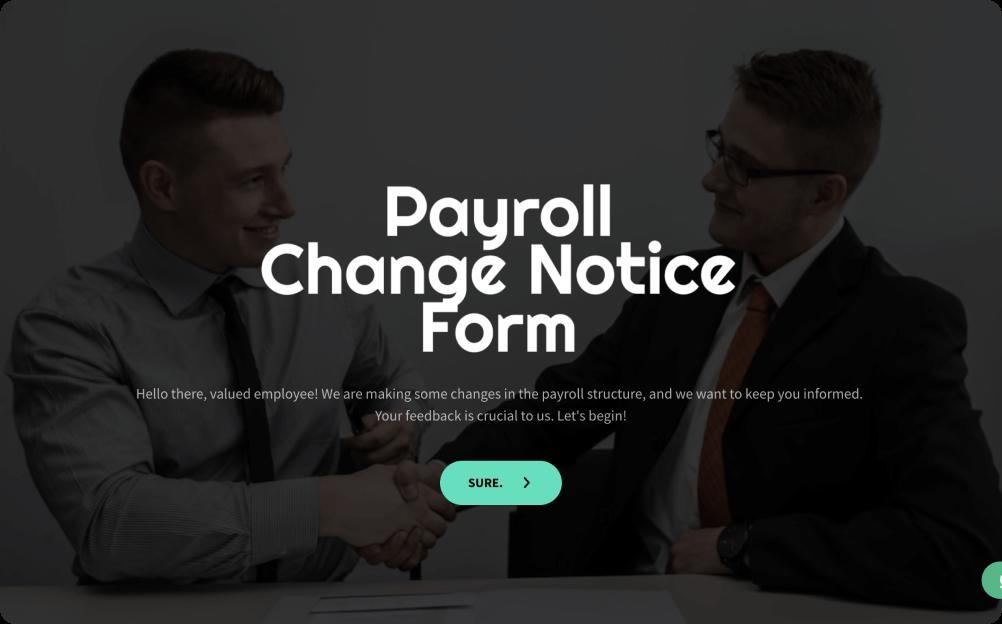button: (441, 460, 564, 507)
